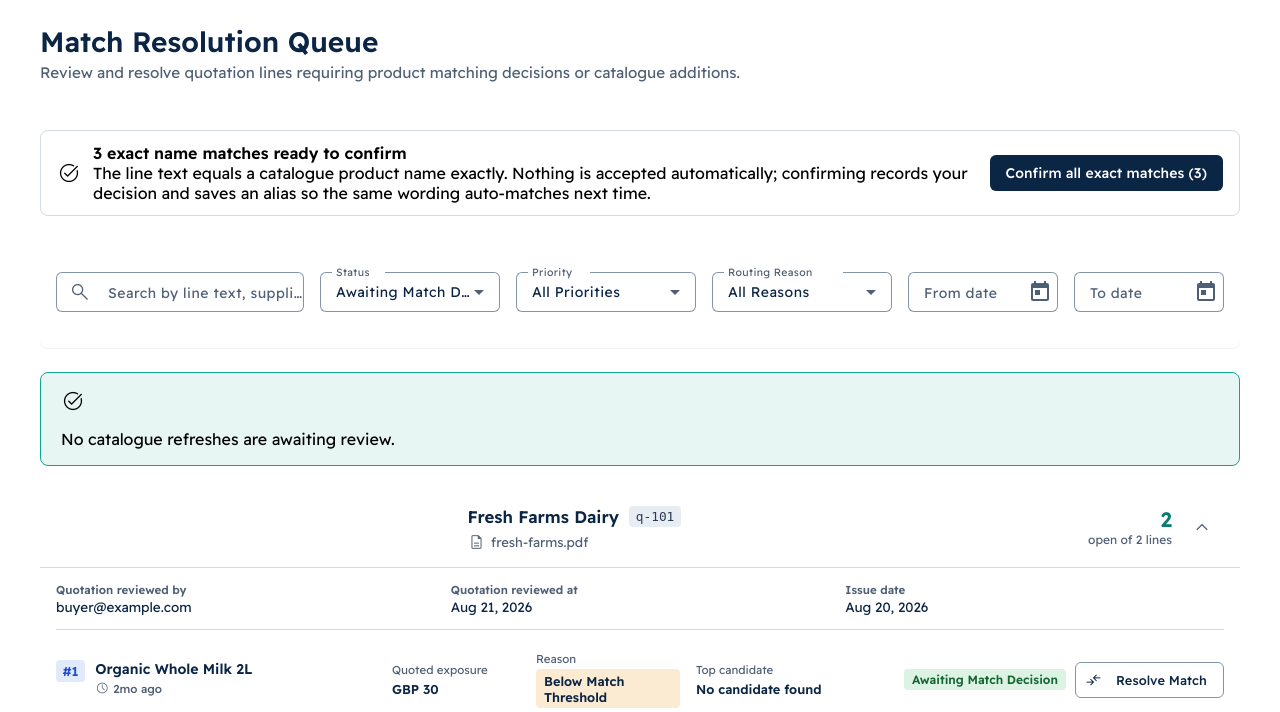
Test: ResolutionQueueComponent › offers a one-click bulk confirm for exact name matches and reloads afterwards
Click the button with test id "confirm-exact-btn". click: (1106, 173)
box: [990,155,1223,191]
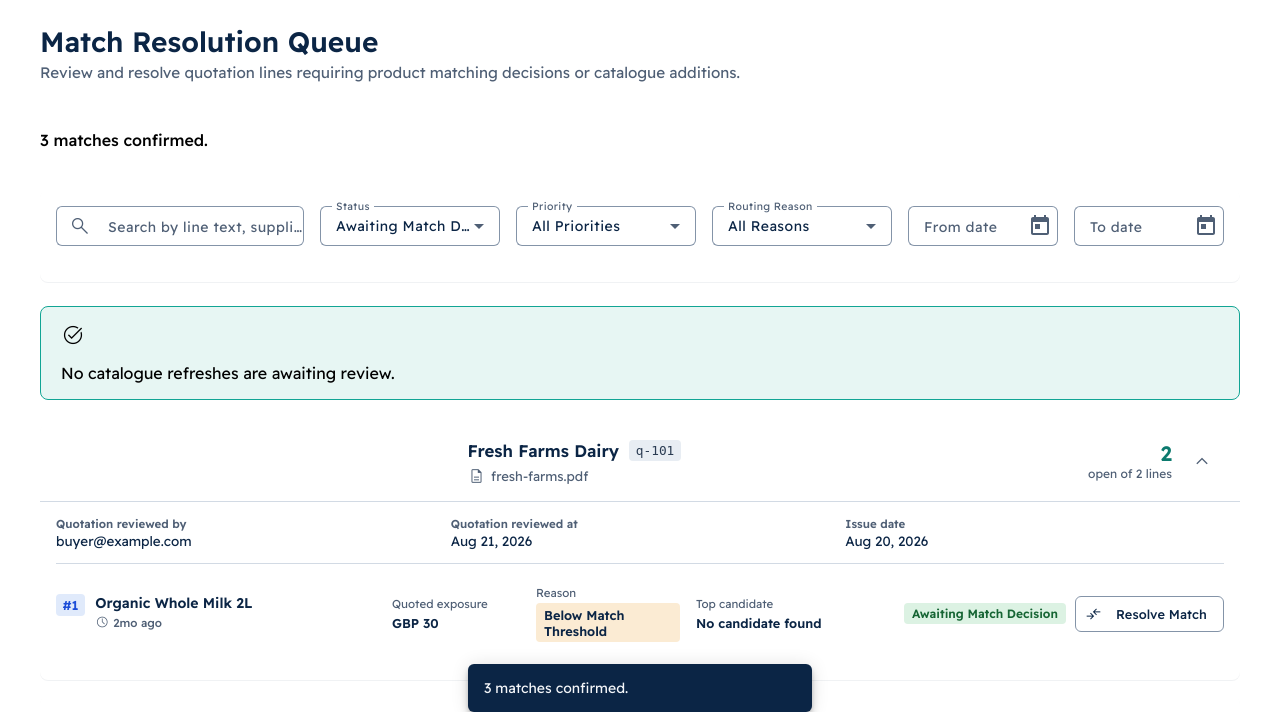
Result: the message with test id "exact-match-banner" is gone
Result: the message with test id "exact-match-result" shows "3 matches confirmed" at [40,130,208,150]
